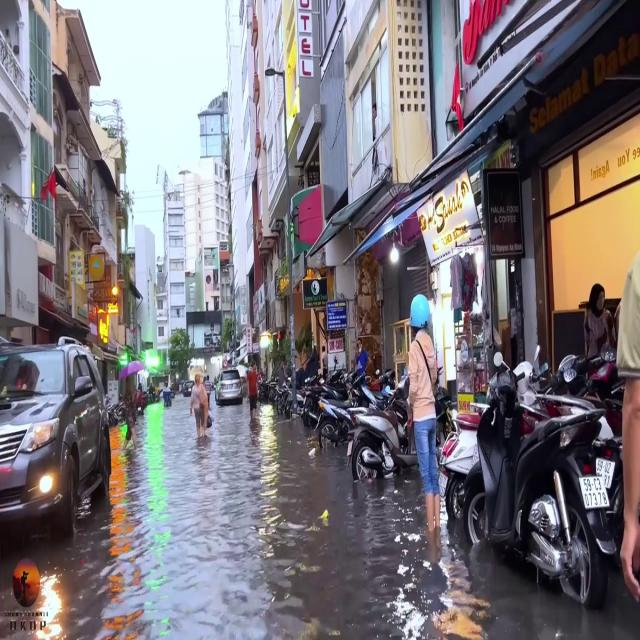bien_trang: (580, 476, 608, 509)
